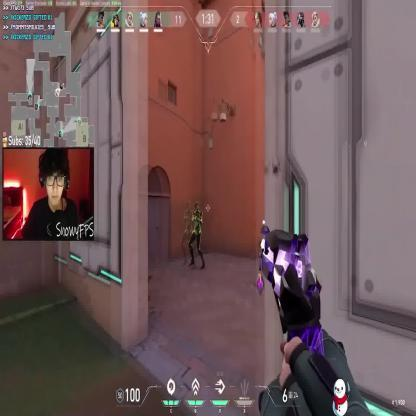enemy: (187, 202, 205, 268)
enemy_head: (194, 200, 199, 214)
